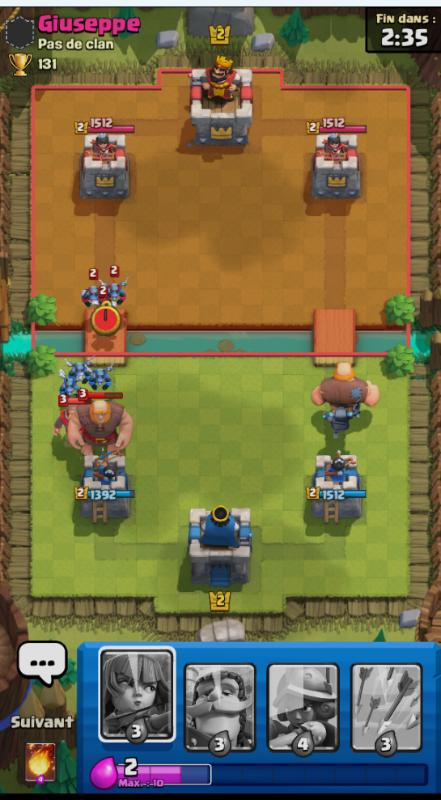gargouille: (103, 278, 136, 311), (51, 370, 87, 400), (78, 281, 106, 310), (86, 363, 114, 392), (63, 360, 91, 383)
geant: (67, 392, 141, 453), (308, 360, 384, 413)
mini_PEKKA: (322, 404, 357, 433)
